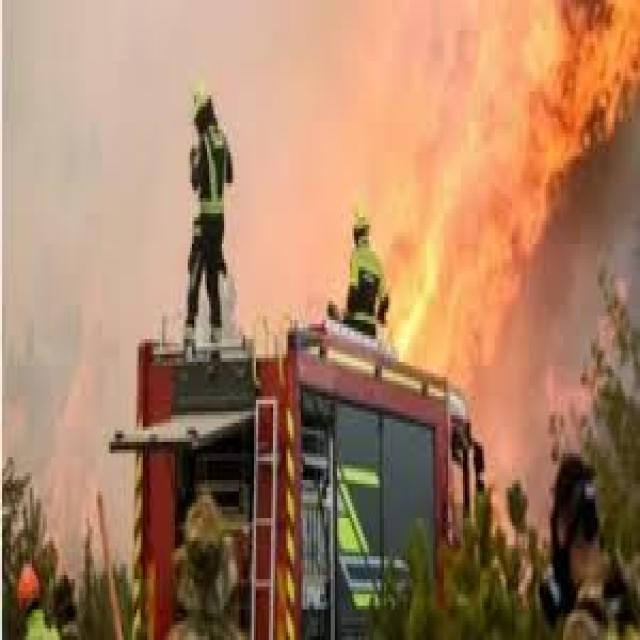pompier: (126, 326, 486, 630)
